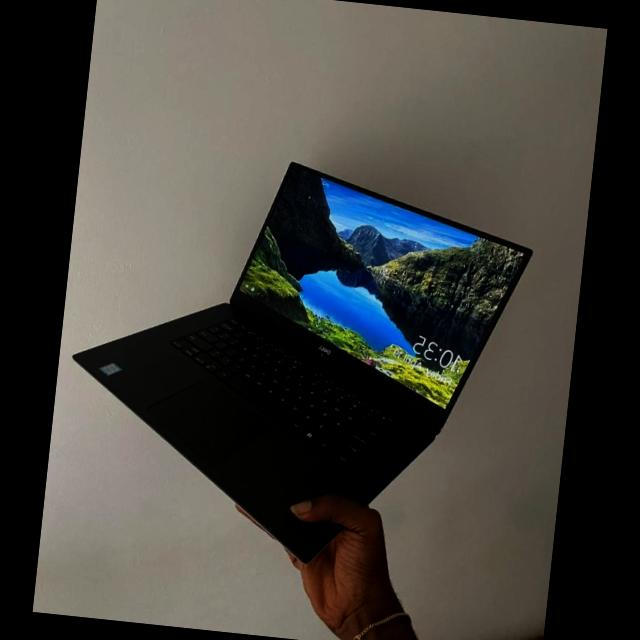laptop: (61, 131, 544, 578)
